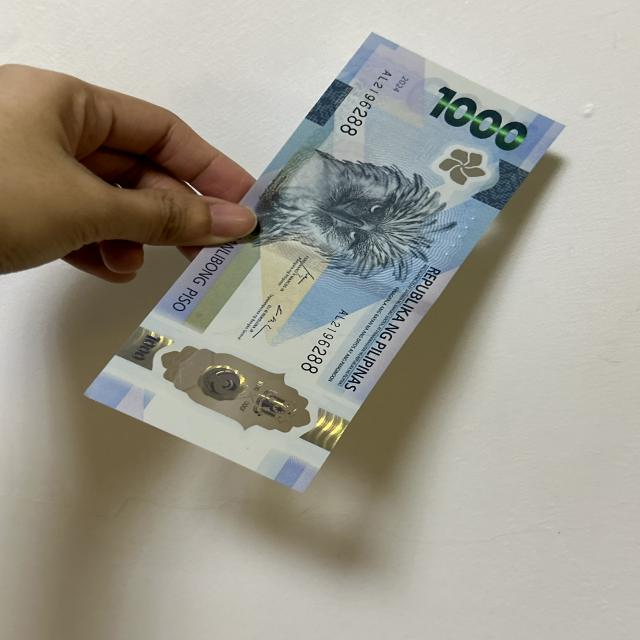clear_window: (142, 339, 322, 438)
eagle: (250, 151, 446, 283)
sampaguita: (440, 145, 488, 184)
serial_number: (327, 61, 401, 147), (288, 304, 364, 385)
